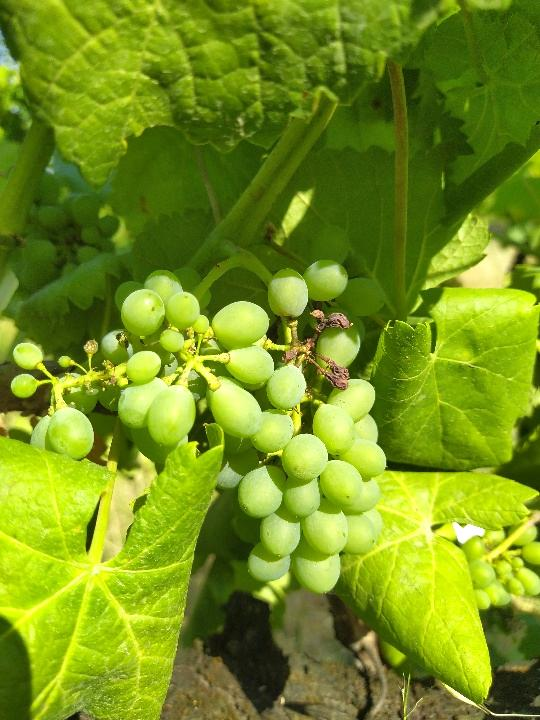grape: (10, 224, 396, 597), (459, 515, 538, 612)
